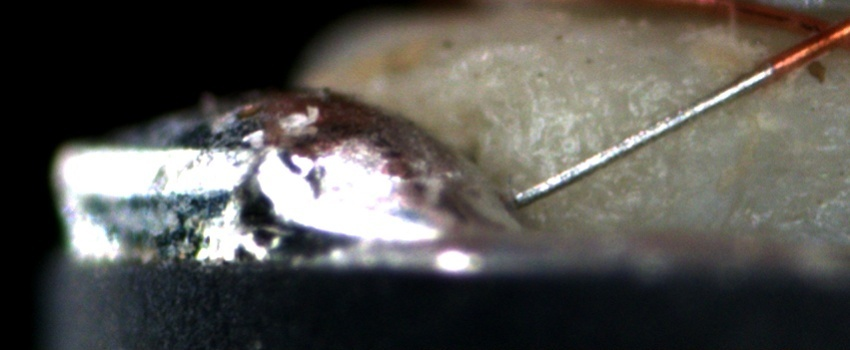CL: (780, 5, 847, 61)
TS: (507, 63, 776, 208)
